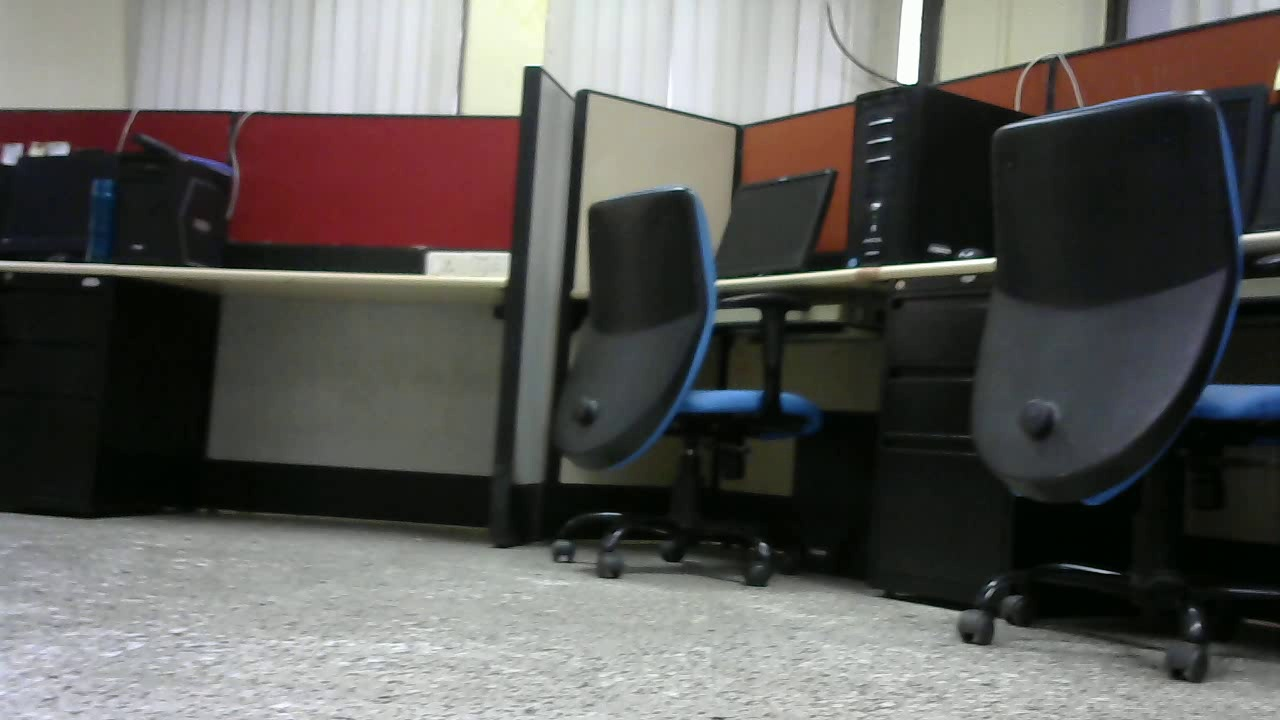chair: (975, 87, 1280, 683), (559, 184, 825, 594)
